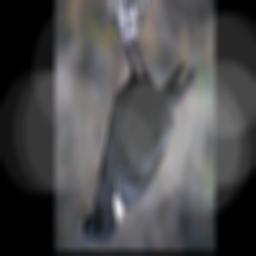Crow: (80, 11, 198, 245)
